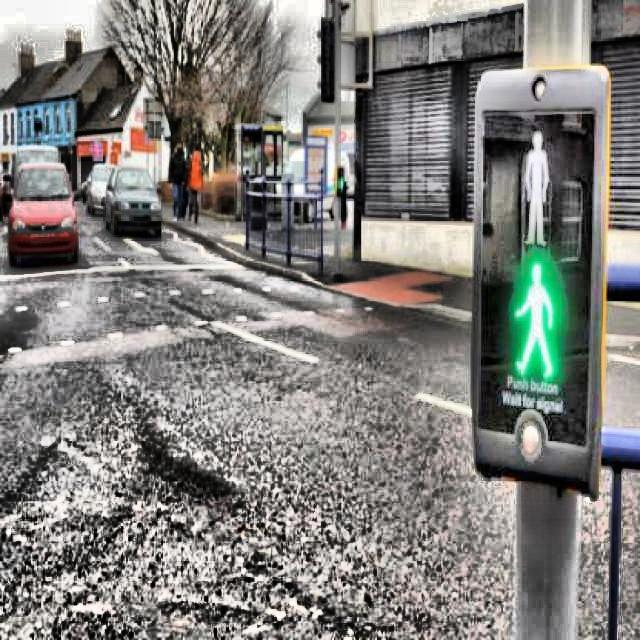semaforo pedestre: (413, 42, 640, 520)
